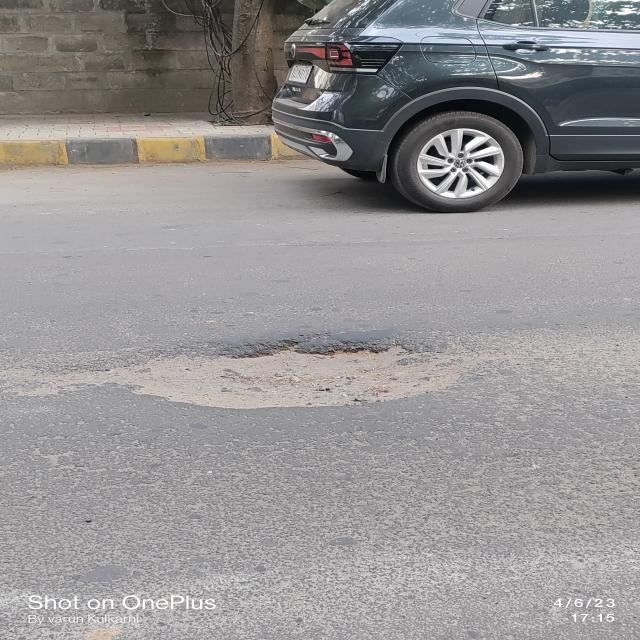potholes: (91, 334, 475, 416)
